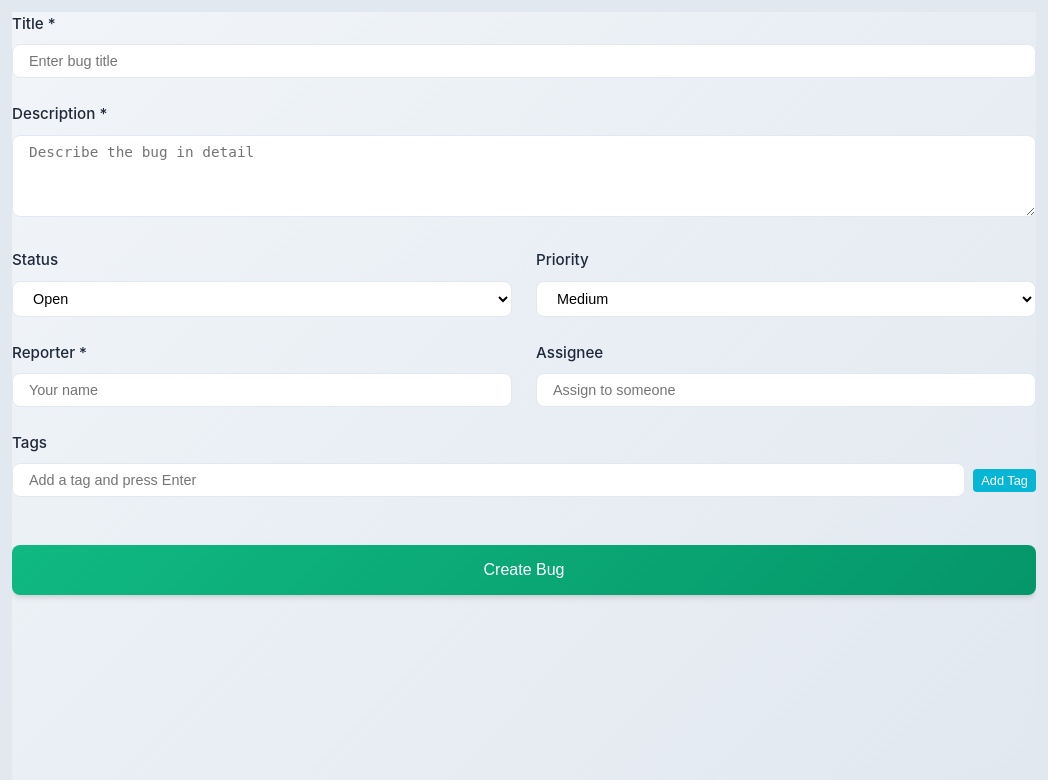
Test: BugForm Component › adds and removes tags
This screenshot has width=1048, height=780.
# Add a tag
Type "urgent" into the field with test id "bug-tags-input" at (489, 480), box [12,463,965,497]
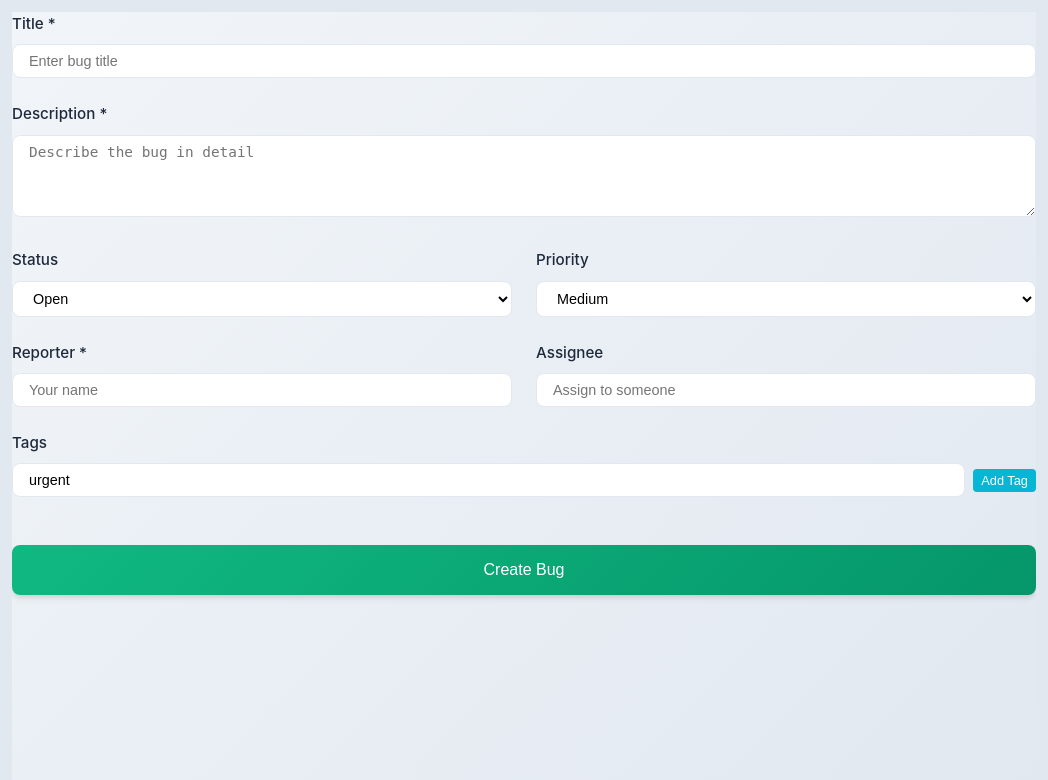
Click the button with test id "add-tag-button" at (1005, 480), box [973,469,1036,492]
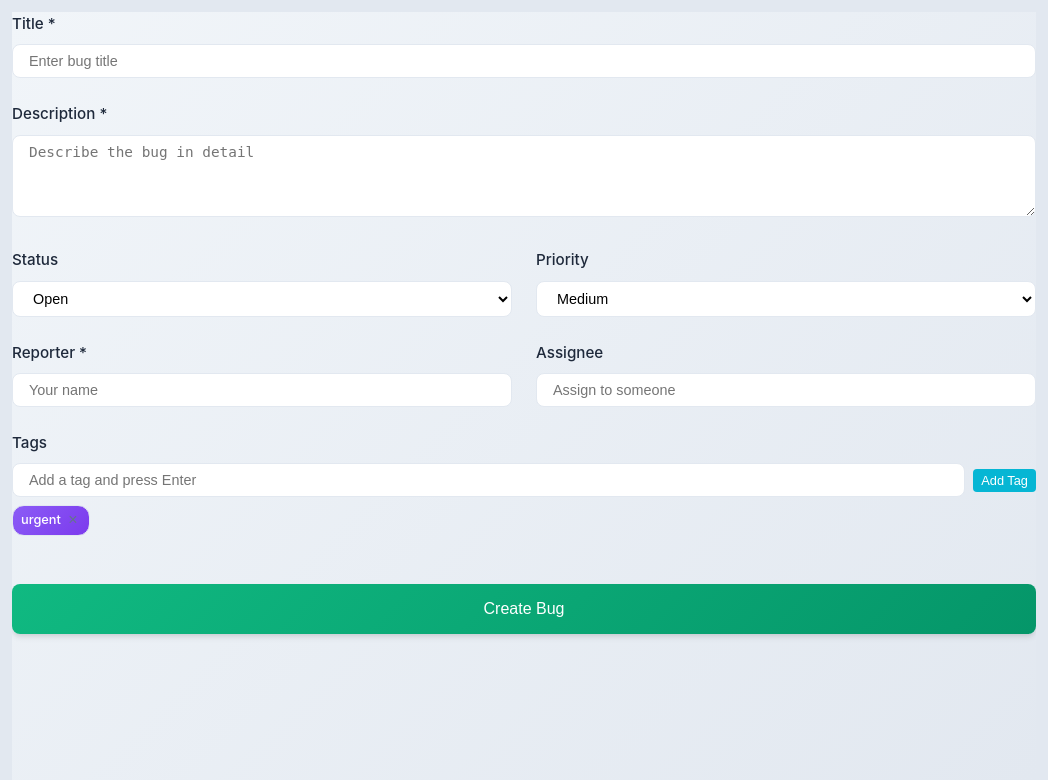
Now the text "urgent" is shown, box [21,512,61,527]
# Add another tag
Type "frontend" into the field with test id "bug-tags-input" at (489, 480), box [12,463,965,497]
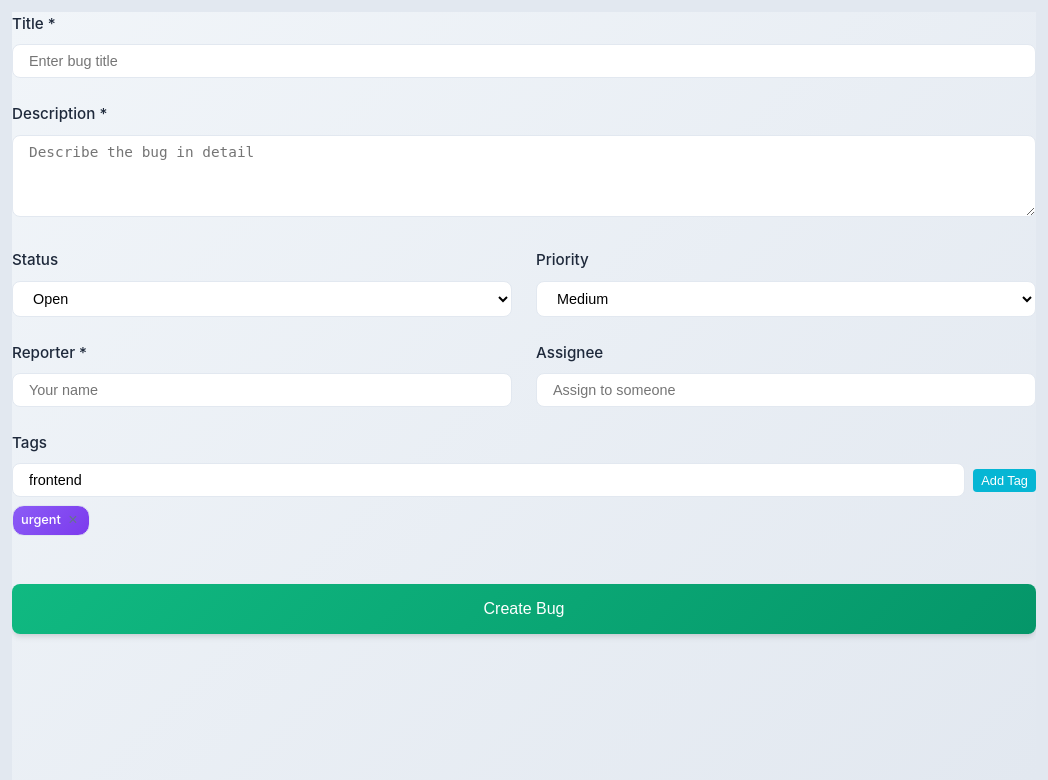
Click the button with test id "add-tag-button" at (1005, 480), box [973,469,1036,492]
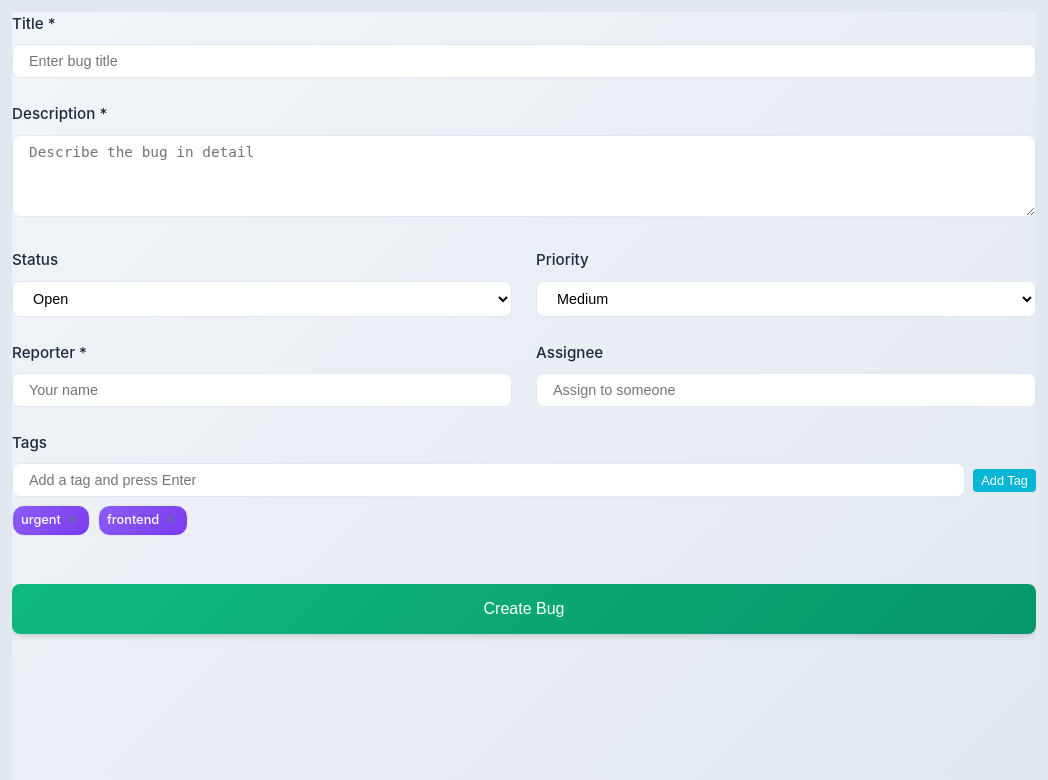
Now the text "frontend" is shown, box [107,512,159,527]
# Remove a tag
Click the button with test id "remove-tag-urgent" at (73, 520), box [65,512,81,528]
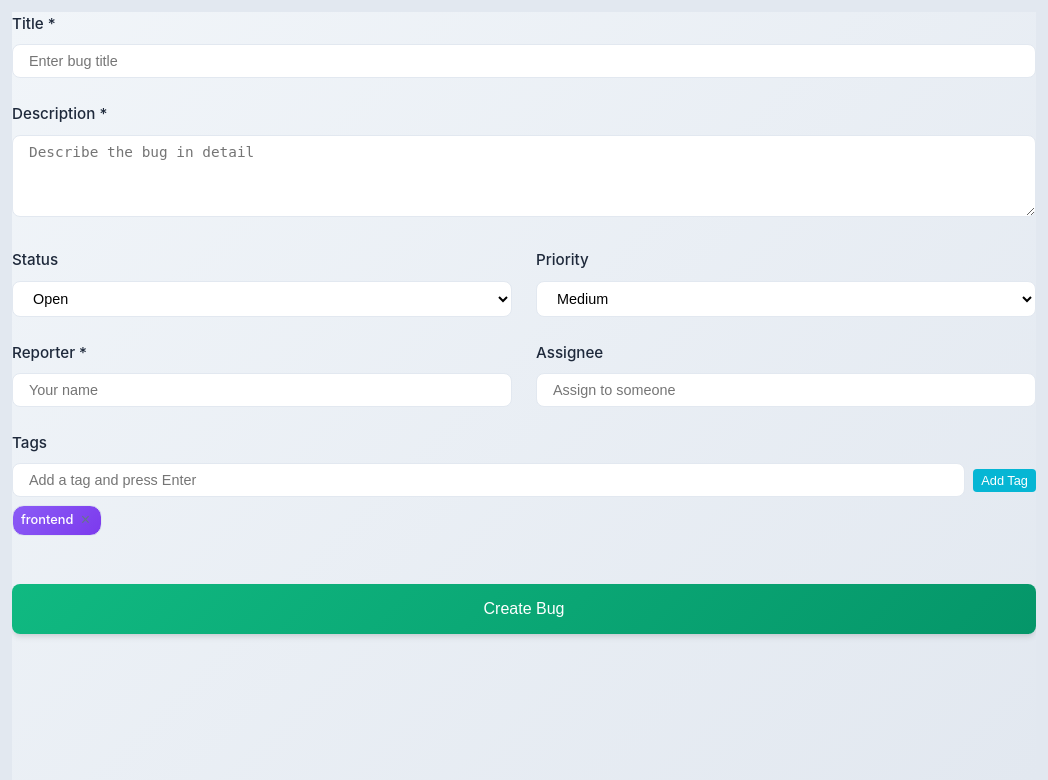
Now the text "urgent" is gone
Now the text "frontend" is shown, box [21,512,73,527]
